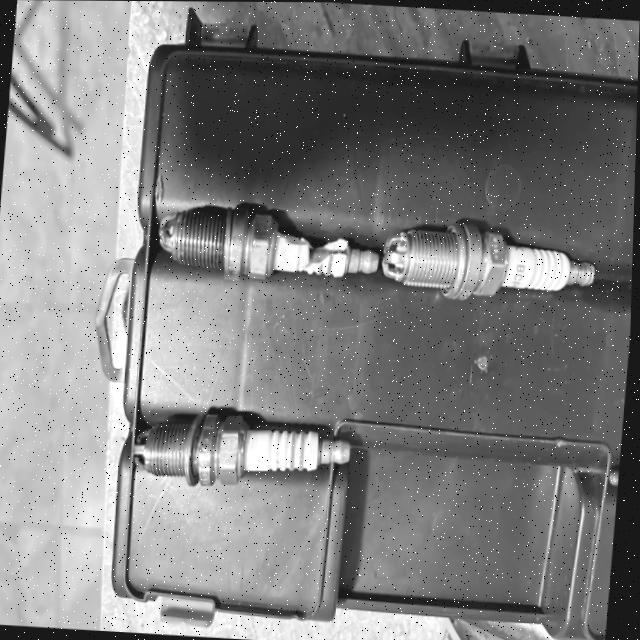damaged_spark-plug: (154, 206, 384, 290)
spark-plug: (378, 216, 606, 312), (128, 412, 354, 497)
